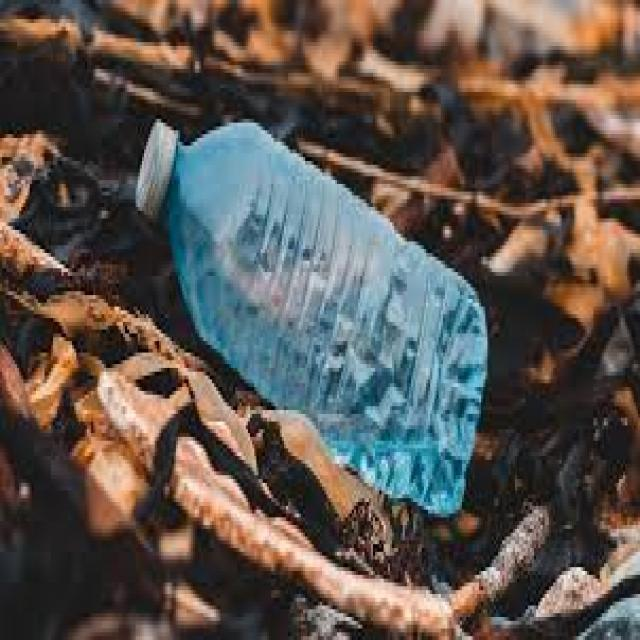plastic_bottle: (137, 119, 489, 518)
